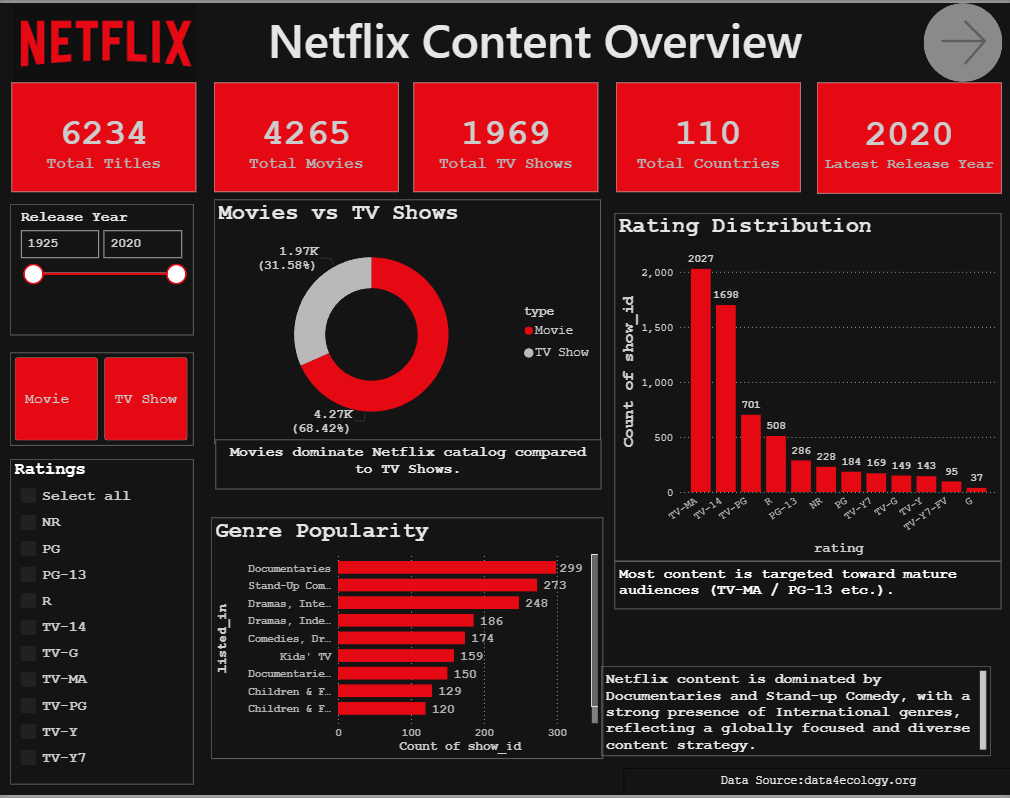

This screenshot's page, from the dashboard's own definition file:
{"tool":"powerbi","page":{"name":"Page 1","canvas":[1280,1000],"ordinal":0},"visuals":[{"type":"textbox","box":[0,0,1280.7,99.6],"z":0},{"type":"donutChart","title":"Movies vs TV Shows","fields":{"Category":["Netflix_Movies_and_TV_Shows.type"],"Y":["CountNonNull(Netflix_Movies_and_TV_Shows.show_id)"]},"box":[272.1,247.6,487.6,308],"z":0,"group":"g1"},{"type":"clusteredBarChart","title":"Genre Popularity","fields":{"Category":["Netflix_Movies_and_TV_Shows.listed_in"],"Y":["CountNonNull(Netflix_Movies_and_TV_Shows.show_id)"]},"box":[268.3,648.2,493.8,304.1],"z":0,"group":"g4"},{"type":"card","fields":{"Values":["Netflix_Movies_and_TV_Shows.Total_Titles"]},"box":[16.9,99.5,232.4,138],"z":1000,"group":"g2"},{"type":"group","id":"g1","title":"Group 1","box":[272.1,247.6,487.6,365.6],"z":1000},{"type":"clusteredColumnChart","title":"Rating Distribution","fields":{"Category":["Netflix_Movies_and_TV_Shows.rating"],"Y":["Count(Netflix_Movies_and_TV_Shows.show_id)"]},"box":[777.2,264.8,487.6,438.4],"z":1000,"group":"g3"},{"type":"textbox","box":[273.7,550.8,485.7,62.4],"z":1000,"group":"g1"},{"type":"textbox","box":[759,834.9,491.3,113.4],"z":1000,"group":"g4"},{"type":"group","id":"g2","title":"Group 2","box":[16.9,99.5,1246.6,140.8],"z":2000},{"type":"card","fields":{"Values":["Netflix_Movies_and_TV_Shows.Total_TV_Shows"]},"box":[523.4,99.5,232.4,138],"z":2000,"group":"g2"},{"type":"card","fields":{"Values":["Netflix_Movies_and_TV_Shows.Total_Movies"]},"box":[272,99.5,232.4,138],"z":3000,"group":"g2"},{"type":"group","id":"g3","title":"Group 3","box":[776.8,264.8,487.9,499.3],"z":3000},{"type":"textbox","box":[776.8,703.7,487.6,60.5],"z":3001,"group":"g3"},{"type":"card","fields":{"Values":["Netflix_Country.Total_Countries"]},"box":[778.5,99.5,232.4,138],"z":4000,"group":"g2"},{"type":"advancedSlicerVisual","fields":{"Values":["Netflix_Movies_and_TV_Shows.type"]},"box":[15.9,440.2,231,117.5],"z":4000},{"type":"card","fields":{"Values":["Netflix_Movies_and_TV_Shows.Latest_Release_Year"]},"box":[1031.7,99.5,232.4,139.8],"z":5000,"group":"g2"},{"type":"group","id":"g4","title":"Group 4","box":[268.3,648.2,982,304.1],"z":5000},{"type":"slicer","title":"Ratings","fields":{"Values":["Netflix_Movies_and_TV_Shows.rating"]},"box":[15.9,573.6,231,410.3],"z":6000},{"type":"image","box":[18.9,0,230.6,100.2],"z":7000},{"type":"actionButton","box":[1165.2,0,99.6,99.6],"z":8000},{"type":"slicer","fields":{"Values":["Netflix_Movies_and_TV_Shows.release_year"]},"box":[15.9,253,231,165.3],"z":9000},{"type":"textbox","box":[788,963.8,491.3,35.9],"z":10000}]}

Visuals, with their boxes in screenshot pixels (x1, y1, x2, y2), scaled from the page's 1280x1000 canvas onto the 1010x798 screenshot:
textbox: bbox(0, 0, 1009, 79)
"Movies vs TV Shows" donutChart: bbox(215, 198, 599, 443)
"Genre Popularity" clusteredBarChart: bbox(212, 517, 601, 760)
card - Netflix_Movies_and_TV_Shows.Total_Titles: bbox(13, 79, 197, 190)
"Group 1" group: bbox(215, 198, 599, 489)
"Rating Distribution" clusteredColumnChart: bbox(613, 211, 998, 561)
textbox: bbox(216, 440, 599, 489)
textbox: bbox(599, 666, 987, 757)
"Group 2" group: bbox(13, 79, 997, 192)
card - Netflix_Movies_and_TV_Shows.Total_TV_Shows: bbox(413, 79, 596, 190)
card - Netflix_Movies_and_TV_Shows.Total_Movies: bbox(215, 79, 398, 190)
"Group 3" group: bbox(613, 211, 998, 610)
textbox: bbox(613, 562, 998, 610)
card - Netflix_Country.Total_Countries: bbox(614, 79, 798, 190)
advancedSlicerVisual - Netflix_Movies_and_TV_Shows.type: bbox(13, 351, 195, 445)
card - Netflix_Movies_and_TV_Shows.Latest_Release_Year: bbox(814, 79, 997, 191)
"Group 4" group: bbox(212, 517, 987, 760)
"Ratings" slicer: bbox(13, 458, 195, 785)
image: bbox(15, 0, 197, 80)
actionButton: bbox(919, 0, 998, 79)
slicer - Netflix_Movies_and_TV_Shows.release_year: bbox(13, 202, 195, 334)
textbox: bbox(622, 769, 1009, 797)
